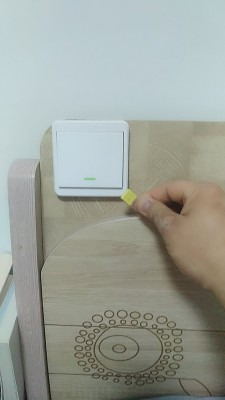switch: (59, 127, 123, 187)
